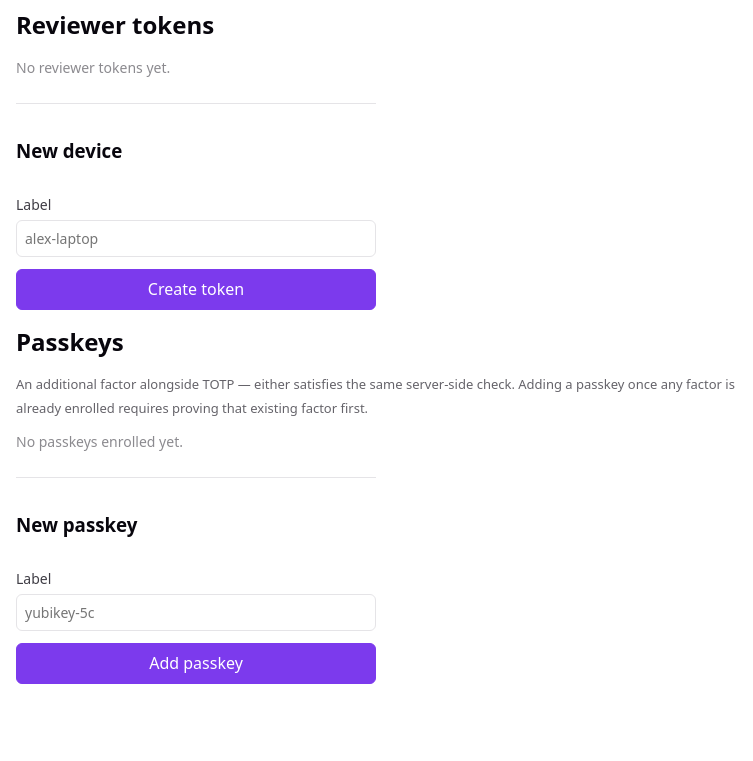
Test case: TokensPage (Passkeys section) — supported browser › surfaces a friendly message when the authenticator ceremony is cancelled
expect the list item "No passkeys enrolled yet." is shown: met, box [16,432,183,451]
Type "my-key" into the field with placeholder "yubikey-5c" below "New passkey" at (196, 612), box [16,594,376,631]
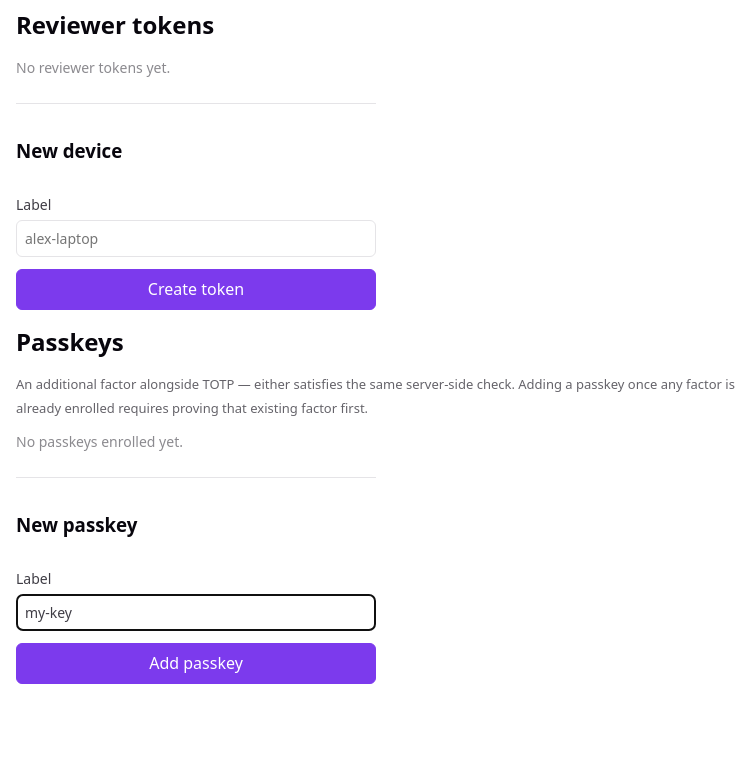
Click the button "Add passkey" at (196, 664), box [16,643,376,684]
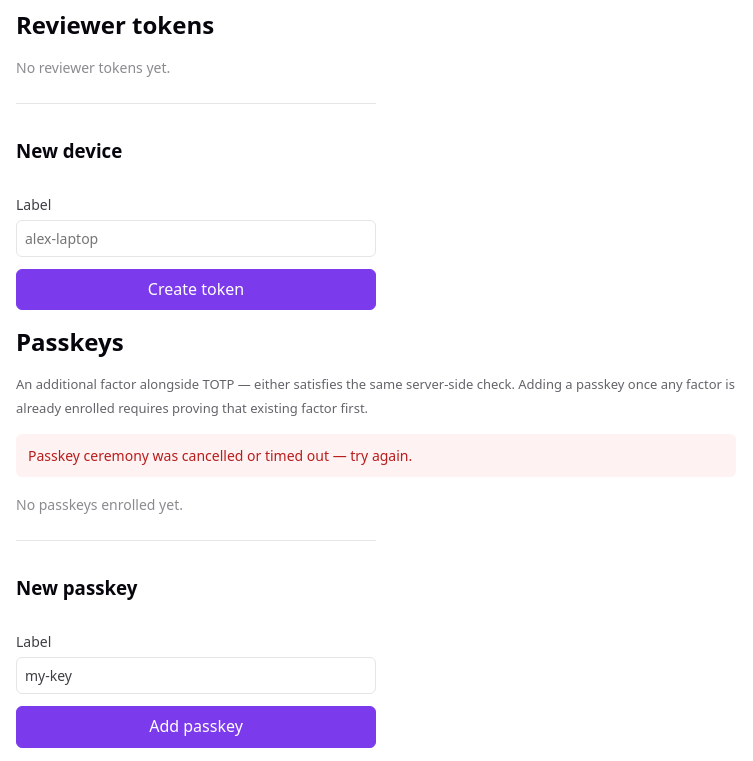
expect the text "Passkey ceremony was cancelled or timed out — try again." is shown: met, box [16,434,736,477]
